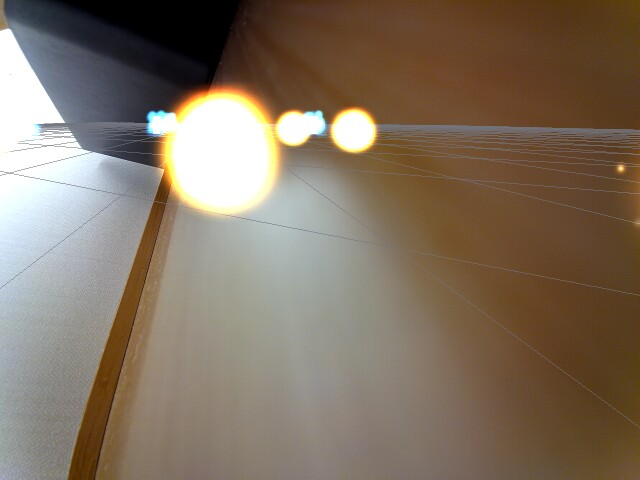firebig: (167, 82, 278, 215)
